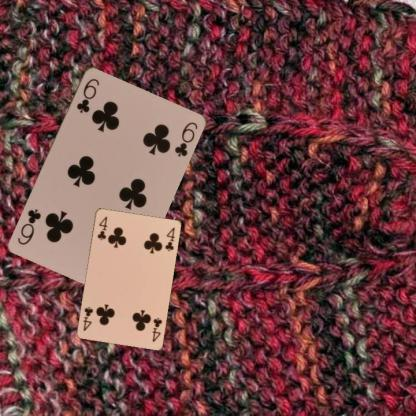4c: (150, 315, 163, 343), (95, 214, 108, 241)
6c: (74, 75, 100, 115)
